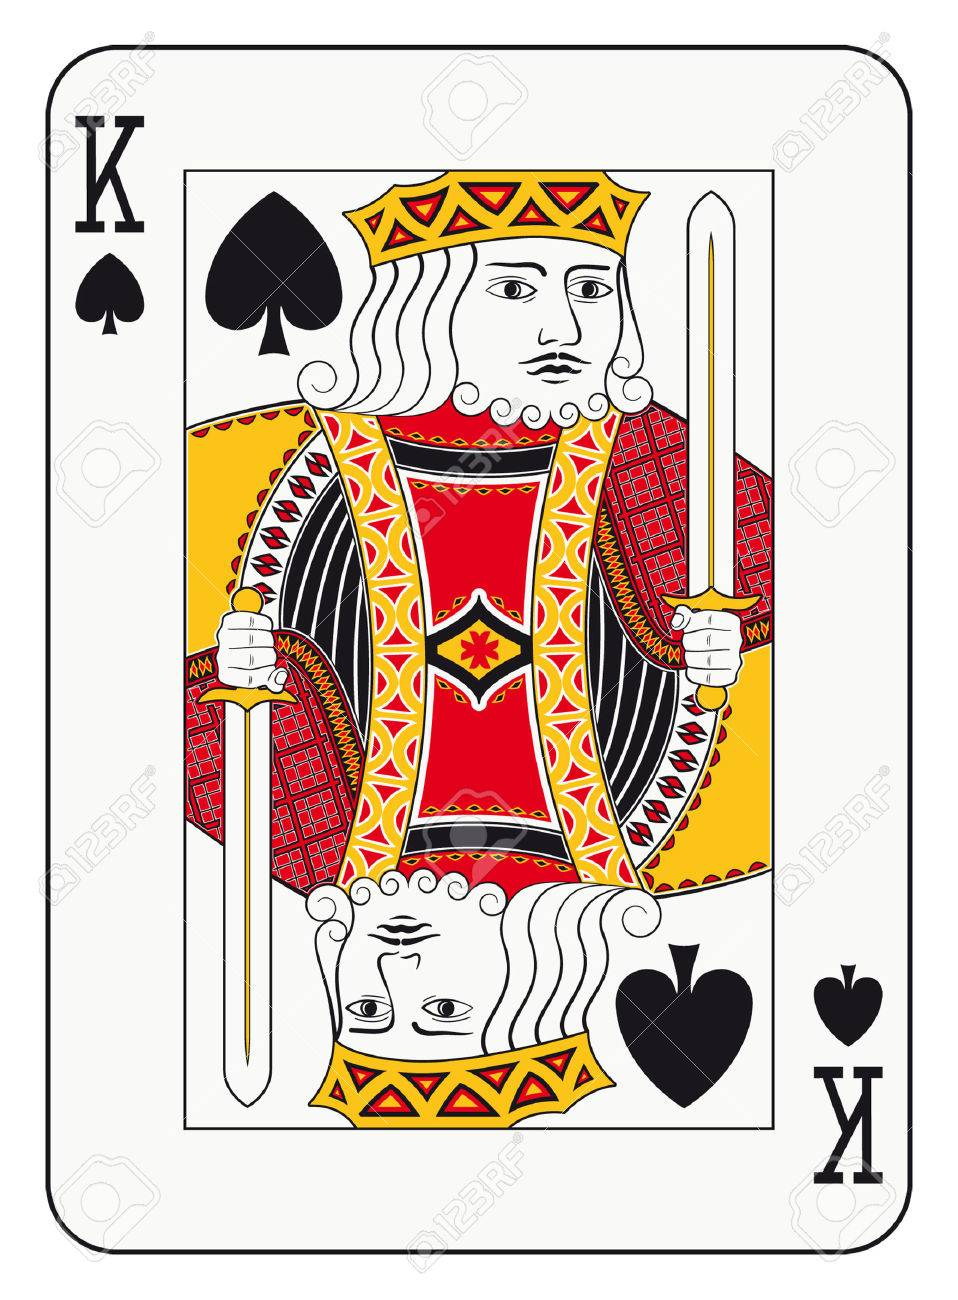king of spades: (47, 35, 918, 1259)
